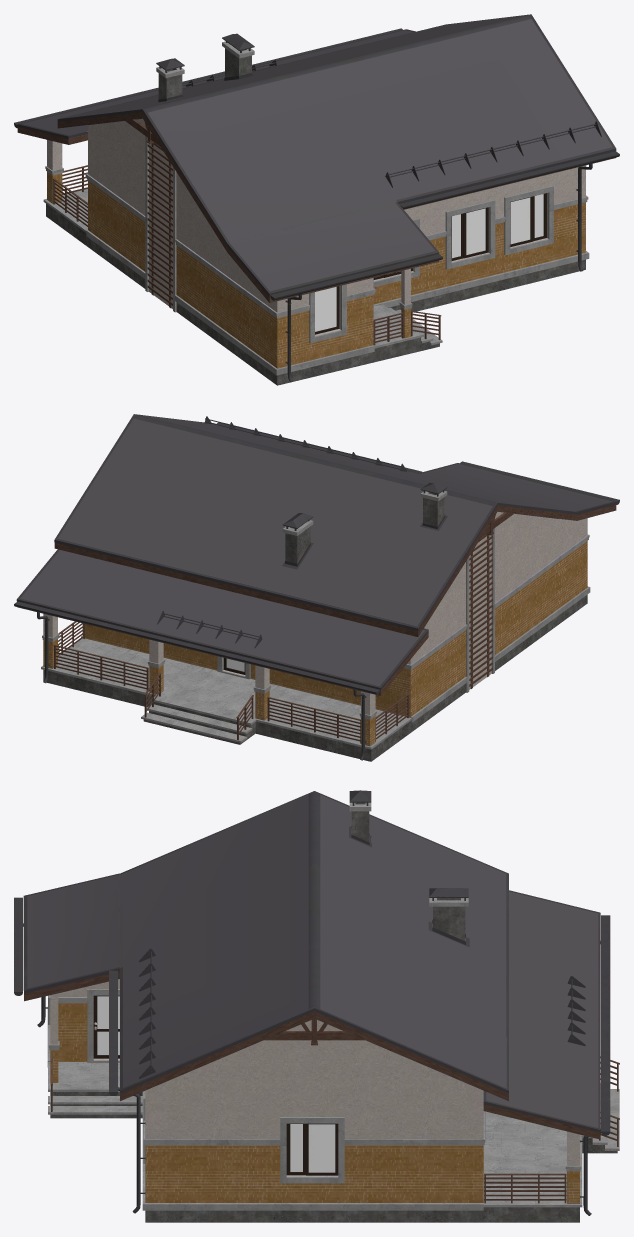
Rendered from Cottage_FREE.glb.
3 views of the same model, one above another, from view 1: azimuth 30°, elevation 25°; view 2: azimuth 150°, elevation 25°; view 3: azimuth 270°, elevation 25° (orthographic). The views are drawn at different scales.
Parts seen in each view (by area): view 1: Cottage_Free; view 2: Cottage_Free; view 3: Cottage_Free.
Part boxes in pixels (x1,y1,x2,y2): Cottage_Free: [14, 14, 619, 385]; Cottage_Free: [14, 414, 619, 761]; Cottage_Free: [14, 790, 619, 1222].
Size of what is drawn, in the model's own units: 12.44 by 6.75 by 14.65.
1 material, 1 textured.
